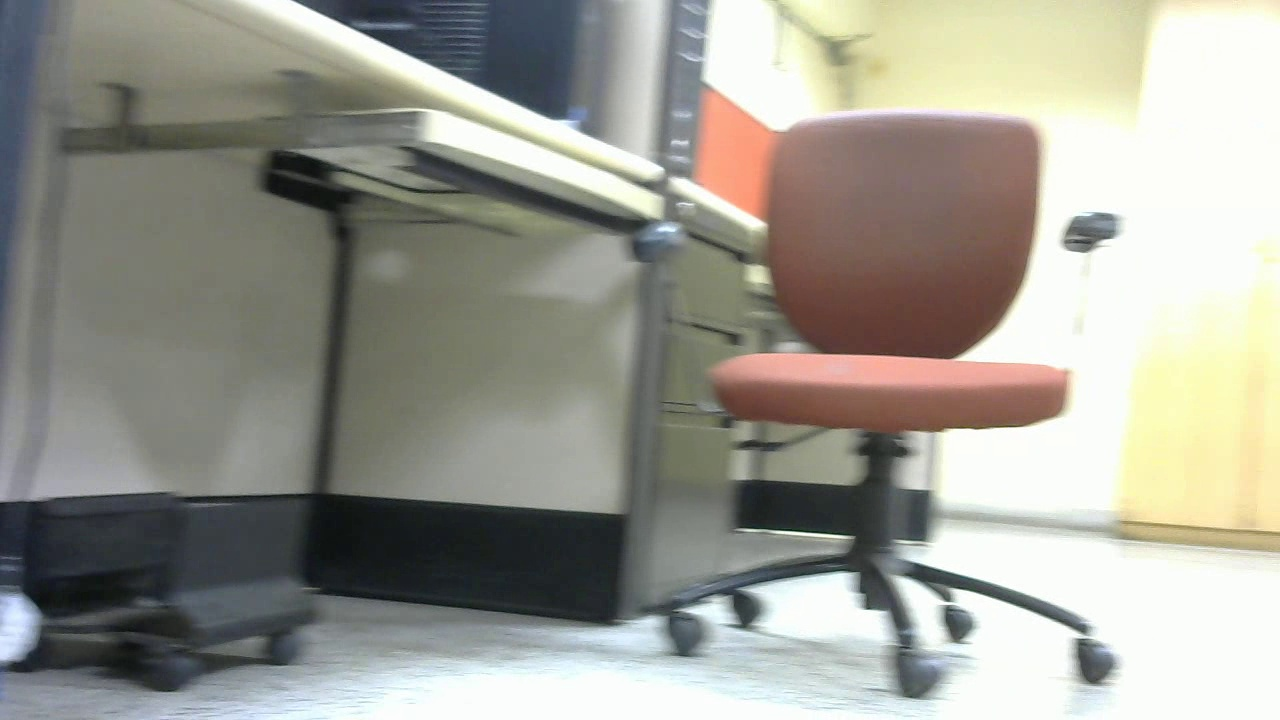chair: (324, 214, 579, 530), (1, 161, 134, 491)
